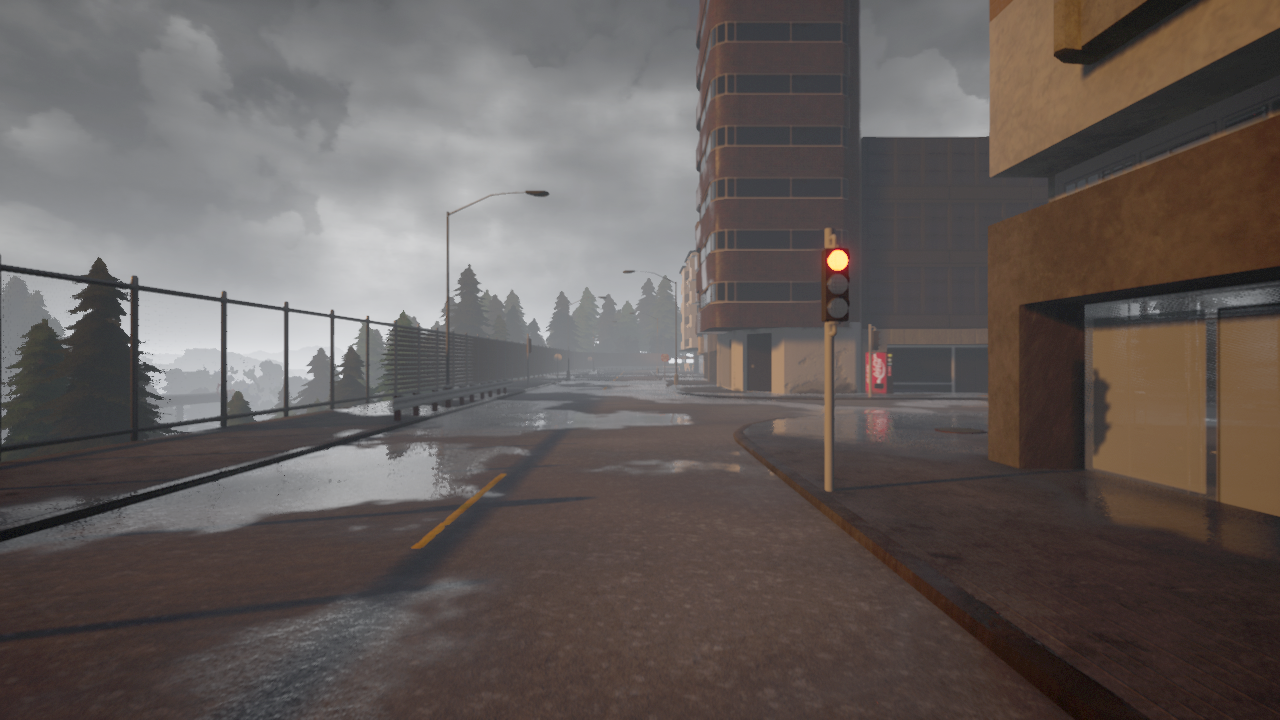red: (818, 243, 851, 324)
